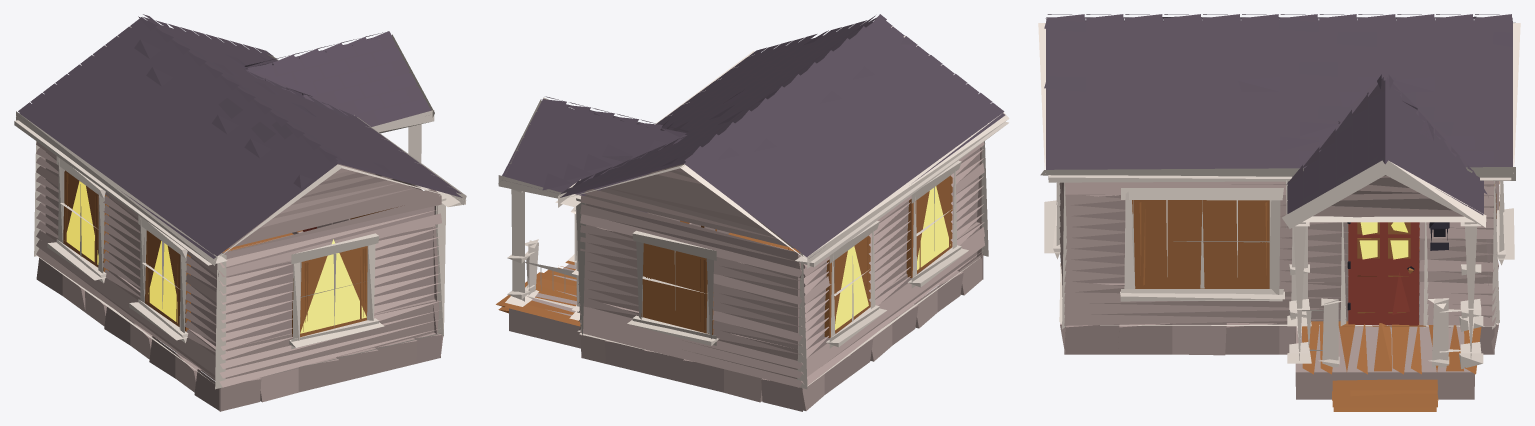
3 renders of one model, left to right at view 1: azimuth 30°, elevation 25°; view 2: azimuth 150°, elevation 25°; view 3: azimuth 270°, elevation 25°, orthographic. The views are drawn at different scales.
Parts seen in each view (by area): view 1: roof_pal_asphalt, body_pal_sidewalk, roof_pal_picketWhite, window_left_pal_woodWarm, body_pal_picketWhite, window_left_pal_picketWhite, window_left_emi_windowGlow, window_rearL_pal_woodWarm, window_rearR_pal_woodWarm, window_rearR_pal_picketWhite, window_rearL_pal_picketWhite, window_rearL_emi_windowGlow (+1 smaller); view 2: roof_pal_asphalt, body_pal_sidewalk, body_pal_picketWhite, roof_pal_picketWhite, window_right_pal_woodWarm, window_rearR_pal_woodWarm, window_right_pal_picketWhite, window_rearL_pal_woodWarm, window_rearL_pal_picketWhite, body_pal_woodWarm, window_rearR_pal_picketWhite, window_rearL_emi_windowGlow (+1 smaller); view 3: roof_pal_asphalt, body_pal_sidewalk, window_front_pal_woodWarm, roof_pal_picketWhite, body_pal_picketWhite, body_pal_woodWarm, window_front_pal_picketWhite, door_front_pal_brick, roof_pal_sidewalk, door_front_pal_woodWarm, window_right_pal_picketWhite, door_front_emi_windowGlow (+2 smaller).
Boxes of the visible parts, left/top/right/bottom form: roof_pal_asphalt: left=17, top=14, right=462, bottom=258; body_pal_sidewalk: left=36, top=142, right=443, bottom=411; roof_pal_picketWhite: left=14, top=26, right=466, bottom=265; window_left_pal_woodWarm: left=292, top=246, right=367, bottom=337; body_pal_picketWhite: left=34, top=124, right=446, bottom=389; window_left_pal_picketWhite: left=289, top=233, right=384, bottom=349; window_left_emi_windowGlow: left=300, top=239, right=366, bottom=333; window_rearL_pal_woodWarm: left=63, top=170, right=108, bottom=271; window_rearR_pal_woodWarm: left=145, top=230, right=190, bottom=331; window_rearR_pal_picketWhite: left=129, top=215, right=188, bottom=343; window_rearL_pal_picketWhite: left=47, top=156, right=106, bottom=283; window_rearL_emi_windowGlow: left=66, top=181, right=98, bottom=264; roof_pal_asphalt: left=502, top=14, right=1005, bottom=258; body_pal_sidewalk: left=509, top=142, right=985, bottom=411; body_pal_picketWhite: left=505, top=141, right=988, bottom=389; roof_pal_picketWhite: left=498, top=26, right=1009, bottom=268; window_right_pal_woodWarm: left=641, top=243, right=713, bottom=334; window_rearR_pal_woodWarm: left=906, top=175, right=952, bottom=277; window_right_pal_picketWhite: left=627, top=230, right=718, bottom=345; window_rearL_pal_woodWarm: left=824, top=235, right=870, bottom=337; window_rearL_pal_picketWhite: left=826, top=221, right=886, bottom=348; body_pal_woodWarm: left=496, top=260, right=580, bottom=326; window_rearR_pal_picketWhite: left=908, top=160, right=968, bottom=288; window_rearL_emi_windowGlow: left=835, top=246, right=868, bottom=330; roof_pal_asphalt: left=1044, top=14, right=1512, bottom=215; body_pal_sidewalk: left=1059, top=180, right=1499, bottom=399; window_front_pal_woodWarm: left=1132, top=200, right=1269, bottom=288; roof_pal_picketWhite: left=1038, top=22, right=1520, bottom=228; body_pal_picketWhite: left=1059, top=181, right=1499, bottom=369; body_pal_woodWarm: left=1302, top=321, right=1481, bottom=411; window_front_pal_picketWhite: left=1120, top=188, right=1284, bottom=301; door_front_pal_brick: left=1348, top=222, right=1419, bottom=325; roof_pal_sidewalk: left=1313, top=164, right=1463, bottom=217; door_front_pal_woodWarm: left=1357, top=222, right=1413, bottom=313; window_right_pal_picketWhite: left=1496, top=181, right=1514, bottom=265; door_front_emi_windowGlow: left=1359, top=222, right=1408, bottom=259.
Bounding box in the file's own units: 7.15 × 4.56 × 7.2.
